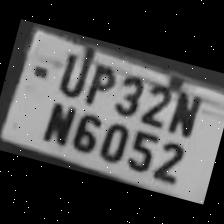0: (94, 115, 132, 165)
2: (147, 133, 190, 188), (136, 75, 176, 129)
3: (107, 65, 148, 119)
5: (121, 123, 162, 175)
6: (66, 106, 104, 156)
N: (164, 82, 206, 140), (36, 94, 78, 148)
P: (80, 56, 120, 110)
U: (50, 42, 94, 100)
